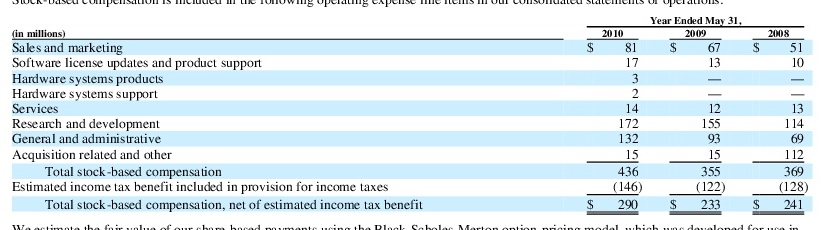table: (0, 0, 826, 230)
